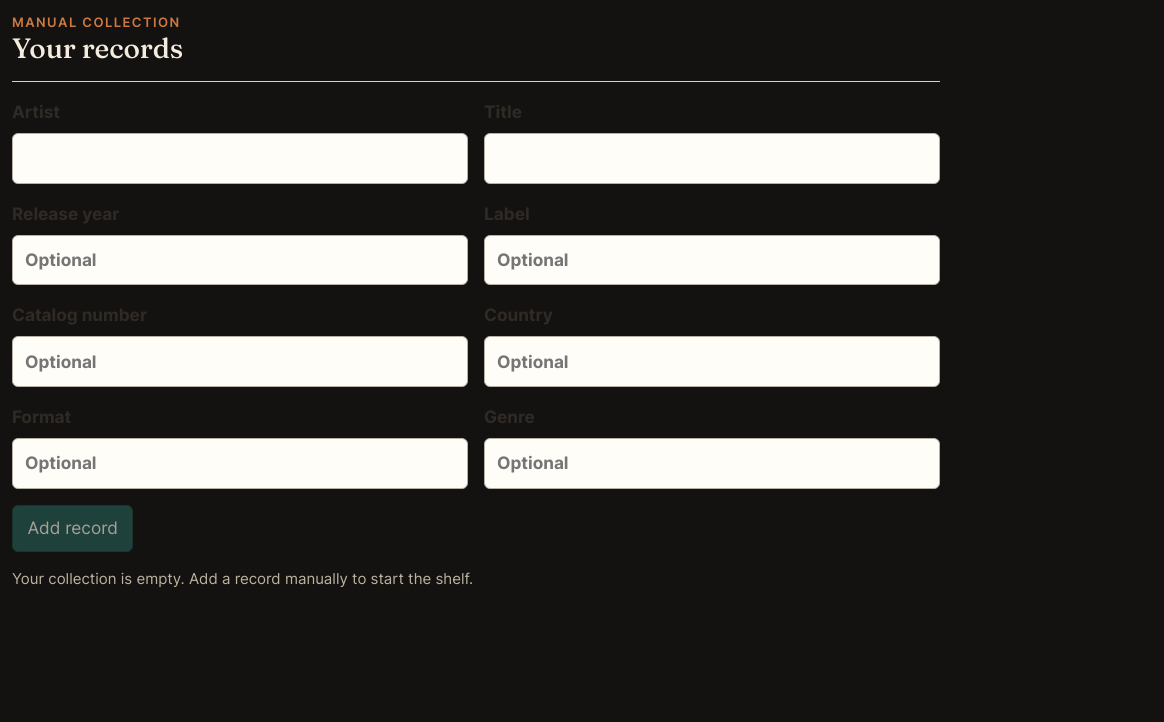
Test: CollectionPanel › adds a record and clears the add form after success
This screenshot has width=1164, height=722.
Type "Alice Coltrane" into the field labelled "Artist". click: (240, 158)
box: [12,133,468,184]
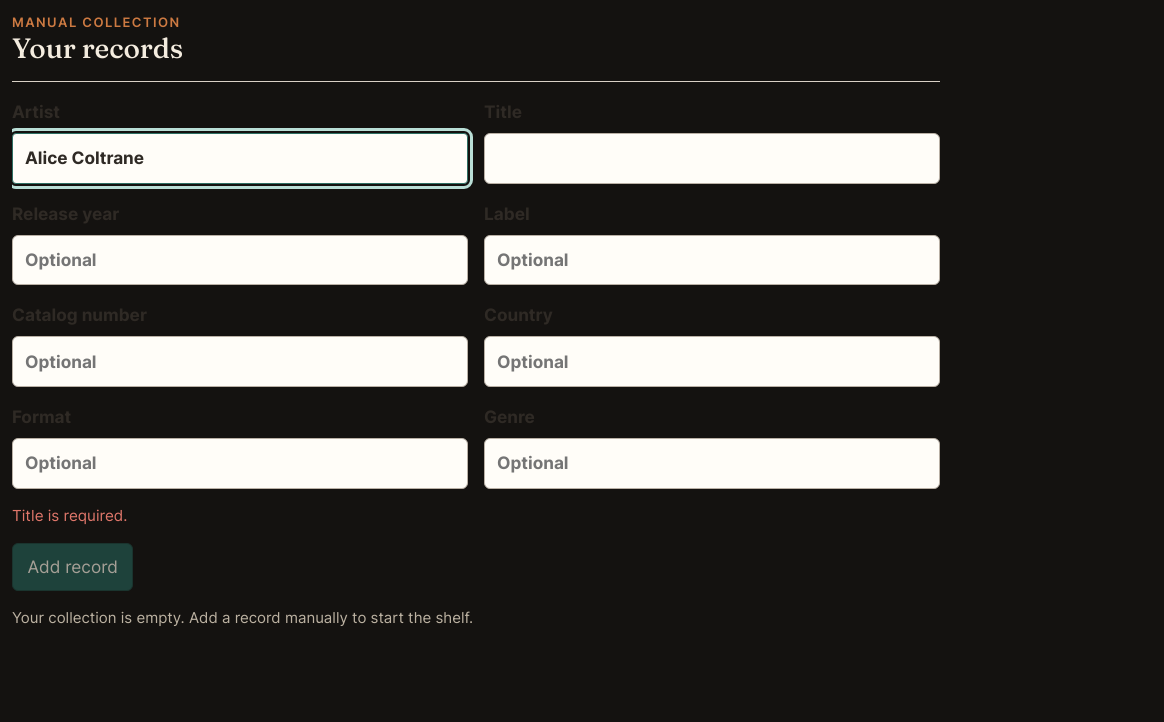
Type "Journey in Satchidananda" into the field labelled "Title". click: (712, 158)
box: [484,133,940,184]
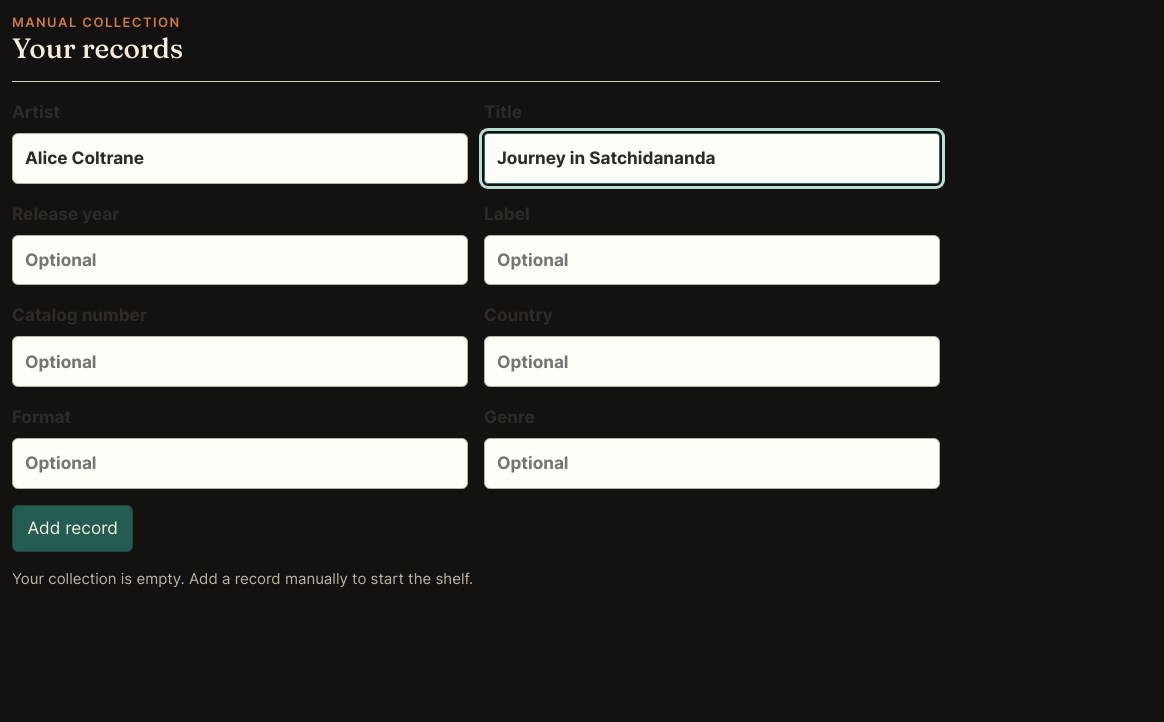
Click the button "Add record". click: click(73, 528)
box: [12,505,133,552]
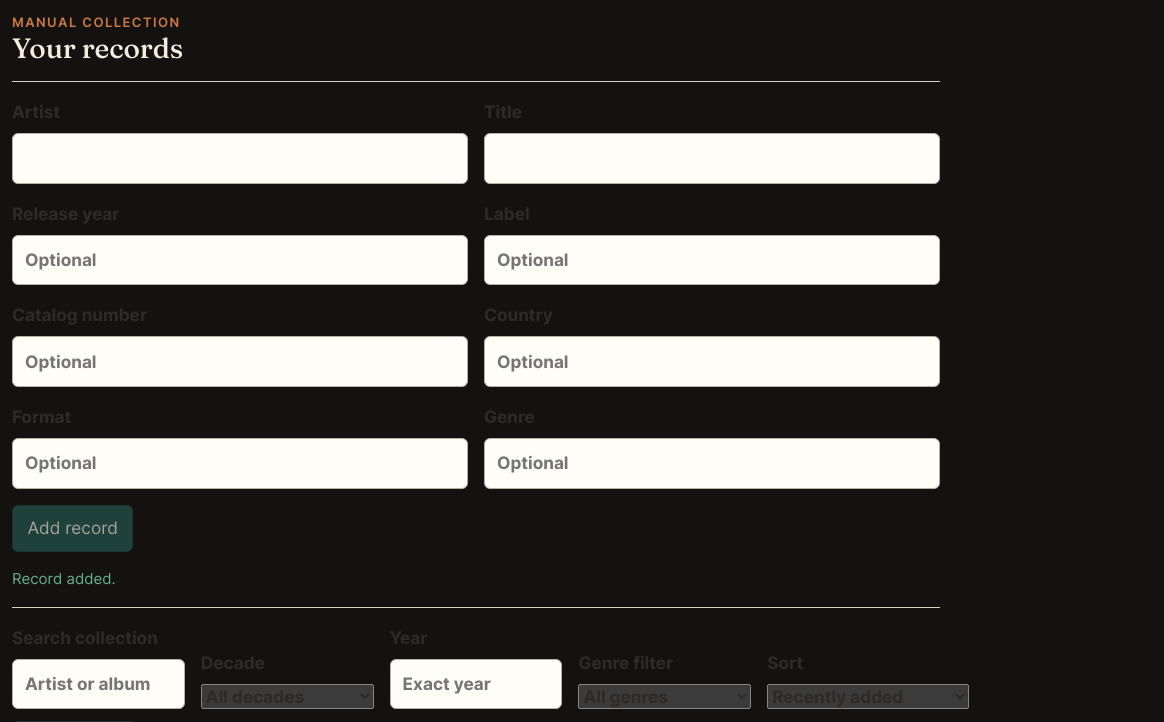
Now the text "Record added." is shown, box [12,569,116,588]
Now the field labelled "Artist" is empty, box [12,133,468,184]
